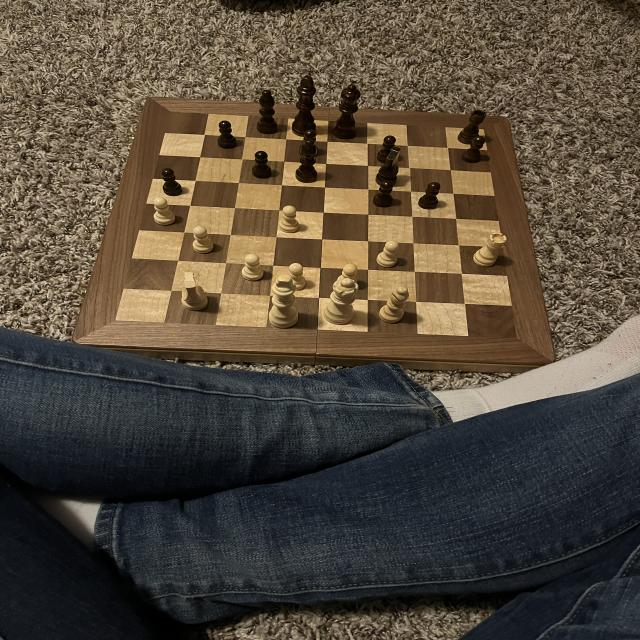bishop: (293, 138, 321, 184), (255, 89, 280, 137)
black-bishop: (286, 74, 320, 138)
black-king: (372, 144, 405, 188)
black-knight: (157, 166, 187, 199), (414, 181, 446, 210), (249, 148, 276, 182), (373, 134, 402, 164), (368, 180, 398, 208), (296, 128, 322, 159), (214, 118, 238, 150), (459, 136, 486, 164)
black-pawn: (329, 82, 364, 140)
black-queen: (454, 107, 488, 147)
black-rook: (376, 286, 410, 326)
white-bishop: (265, 272, 303, 331)
white-king: (176, 271, 211, 314)
white-knight: (372, 240, 402, 270), (150, 197, 178, 228), (190, 224, 218, 254), (241, 252, 266, 283), (278, 203, 301, 236), (284, 263, 310, 292), (336, 261, 362, 289)
white-pawn: (320, 274, 360, 326)
white-queen: (471, 232, 507, 268)
